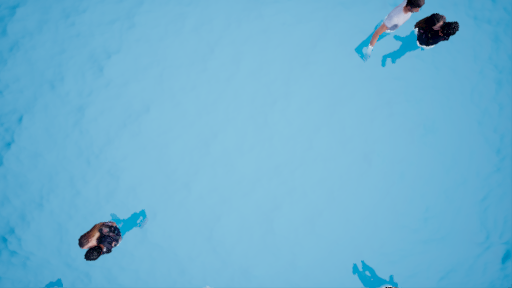person: (359, 2, 458, 69), (75, 201, 153, 269)
